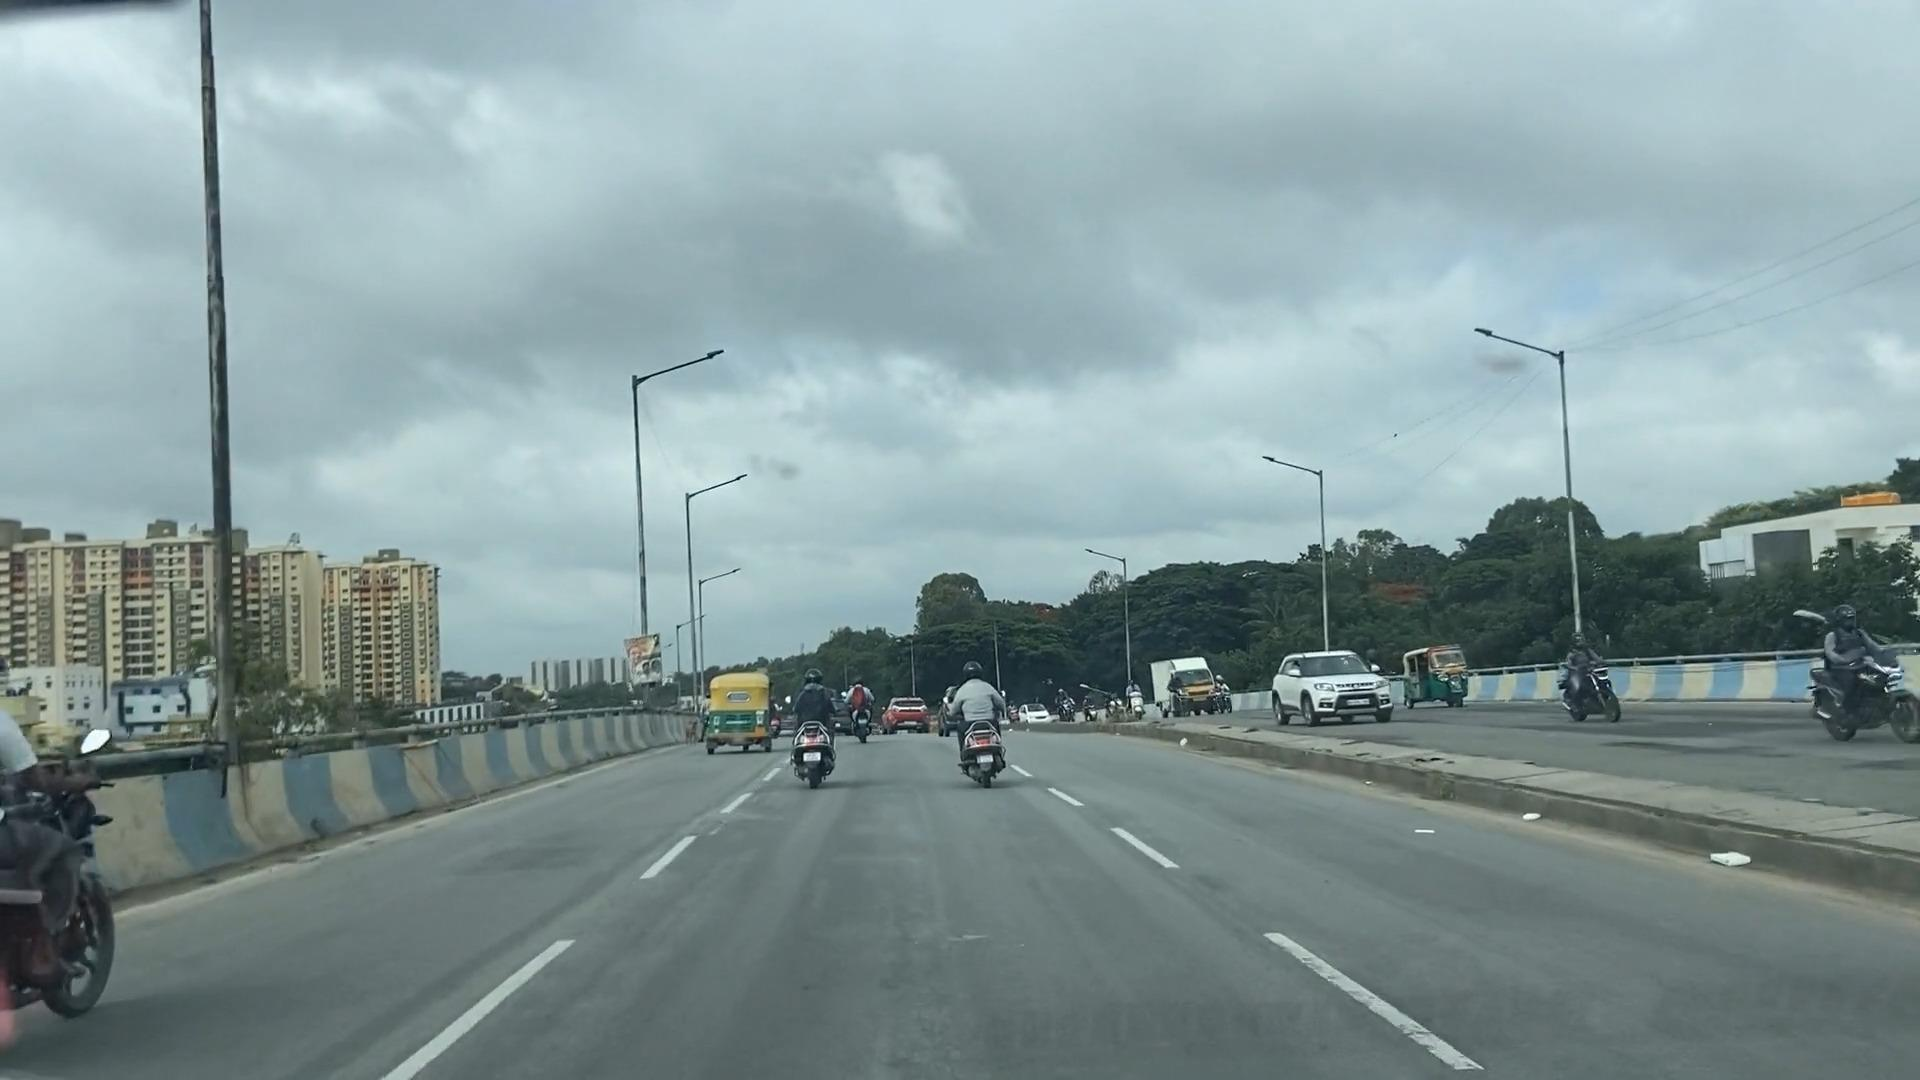LMV: (939, 650, 1015, 794), (791, 669, 848, 791), (702, 676, 777, 754)
